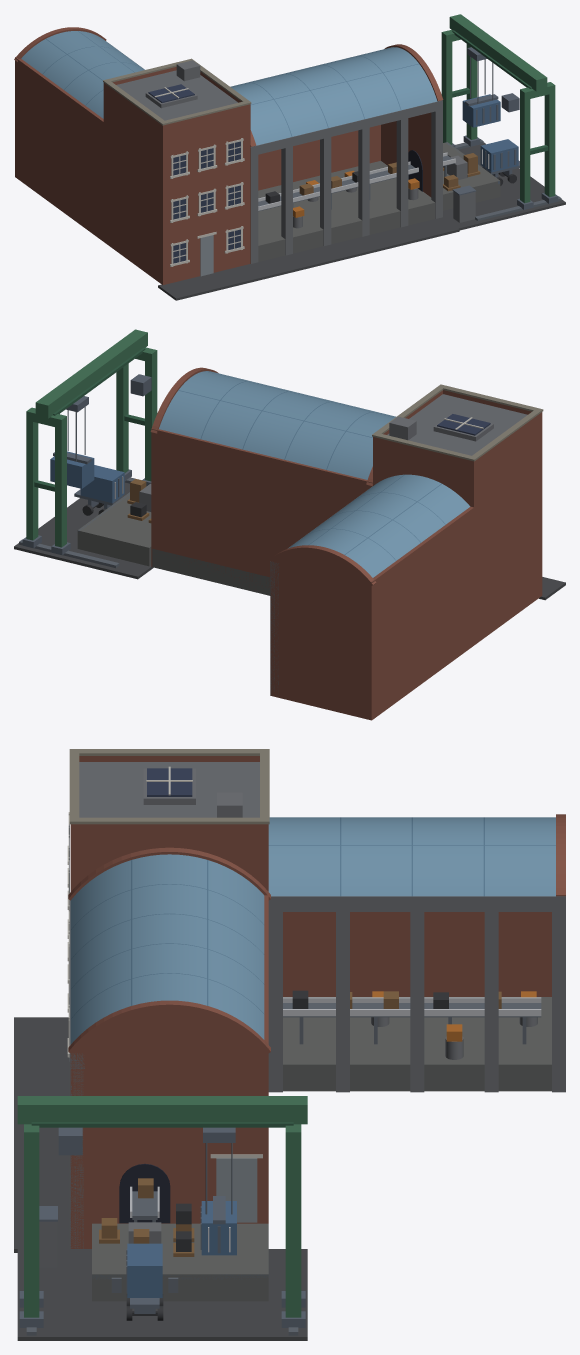
The model's file is assembly_plant_lvl3.glb.
3 renders of one model, top to bottom at view 1: azimuth 30°, elevation 25°; view 2: azimuth 150°, elevation 25°; view 3: azimuth 270°, elevation 25°, orthographic. The views are drawn at different scales.
Visible parts, largest first — view 1: assembly_plant, assembly_plant_Glass; view 2: assembly_plant, assembly_plant_Glass; view 3: assembly_plant, assembly_plant_Glass.
Boxes of the visible parts, x1,y1,x2,y2 form: assembly_plant: (14,14,565,300); assembly_plant_Glass: (21,31,437,145); assembly_plant: (14,329,565,720); assembly_plant_Glass: (159,371,470,577); assembly_plant: (14,749,565,1340); assembly_plant_Glass: (70,817,555,1044).
Size of the model in its own units: 1 by 0.4153 by 0.7297.
